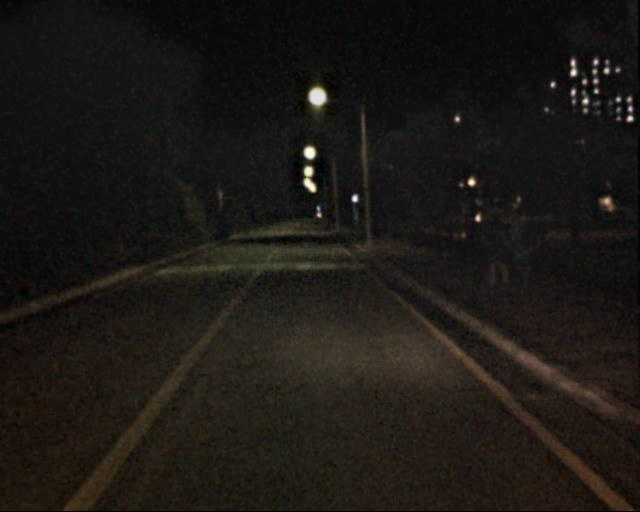person: (510, 209, 541, 285), (481, 210, 512, 286)
